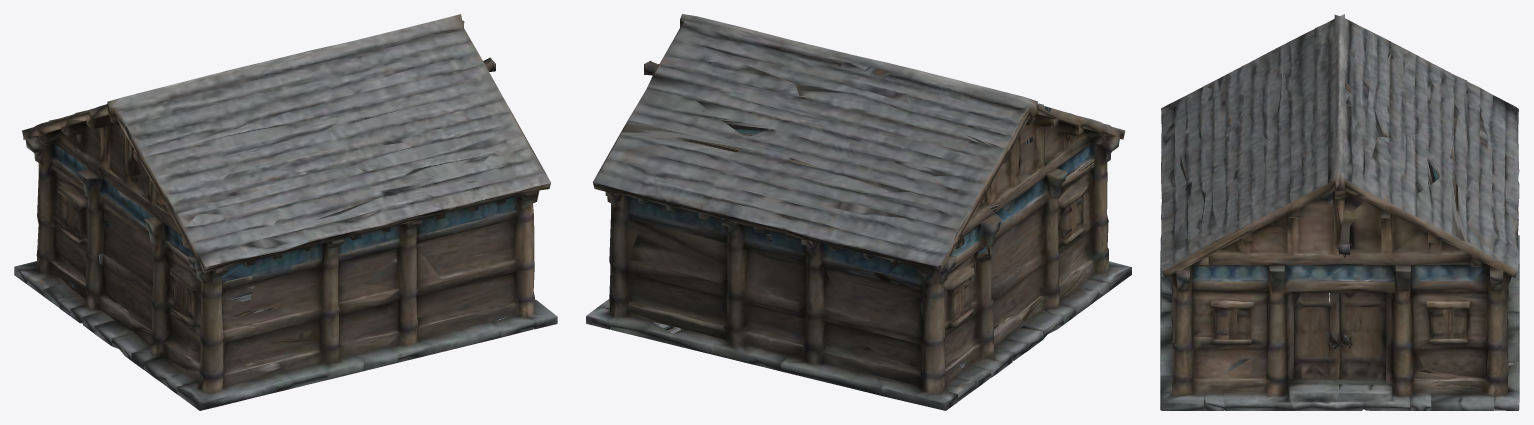
Rendered from storage_wood.glb.
3 views of the same model, side by side, from view 1: azimuth 30°, elevation 25°; view 2: azimuth 150°, elevation 25°; view 3: azimuth 270°, elevation 25° (orthographic). The views are drawn at different scales.
Parts seen in each view (by area): view 1: tripo_node_d1c8c621-6937-413a-8abc-ff801ab44bab; view 2: tripo_node_d1c8c621-6937-413a-8abc-ff801ab44bab; view 3: tripo_node_d1c8c621-6937-413a-8abc-ff801ab44bab.
Part boxes in pixels (x1=…): tripo_node_d1c8c621-6937-413a-8abc-ff801ab44bab: x1=14, y1=14, x2=557, y2=410; tripo_node_d1c8c621-6937-413a-8abc-ff801ab44bab: x1=586, y1=14, x2=1131, y2=410; tripo_node_d1c8c621-6937-413a-8abc-ff801ab44bab: x1=1160, y1=14, x2=1519, y2=410.
Size of the model in its own units: 0.9798 by 0.5811 by 0.8085.
1 material, 1 textured.
